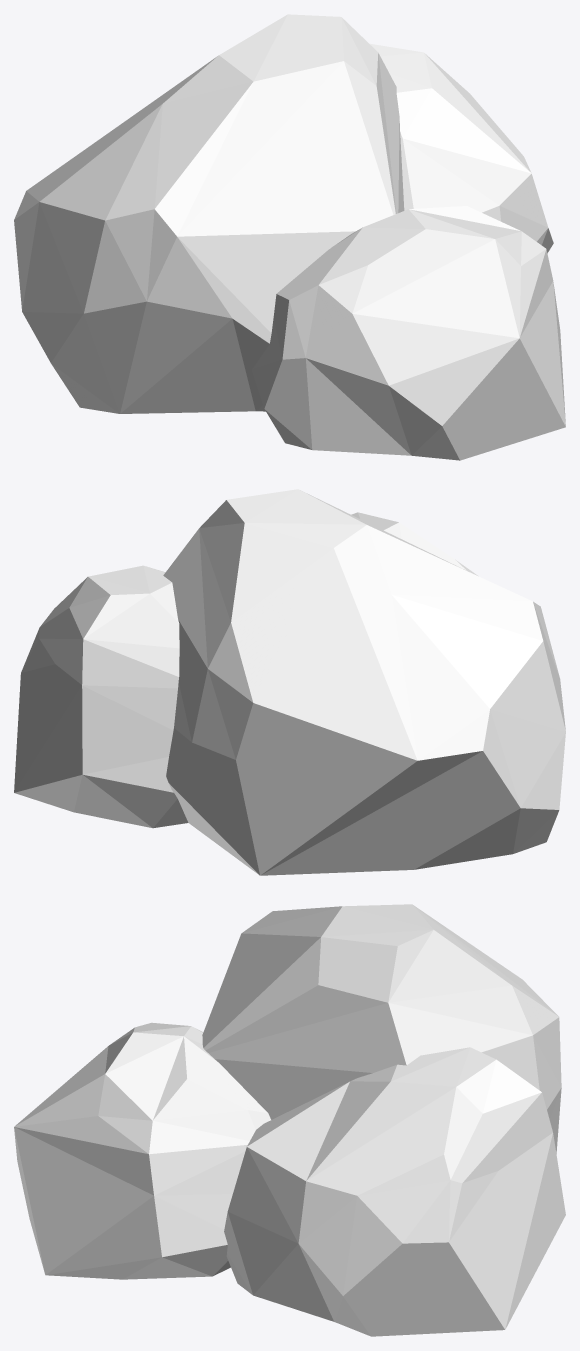
Rendered from Env_Rock_03.glb.
3 views of the same model, one above another, from view 1: azimuth 30°, elevation 25°; view 2: azimuth 150°, elevation 25°; view 3: azimuth 270°, elevation 25° (orthographic). The views are drawn at different scales.
Parts seen in each view (by area): view 1: Env_Rock_03; view 2: Env_Rock_03; view 3: Env_Rock_03.
Part boxes in pixels (x1=…): Env_Rock_03: x1=14, y1=14, x2=565, y2=460; Env_Rock_03: x1=14, y1=489, x2=565, y2=875; Env_Rock_03: x1=14, y1=904, x2=565, y2=1336.
Size of the model in its own units: 1.75 by 0.9927 by 1.64.
Materials: 1 (1 with a texture image).
